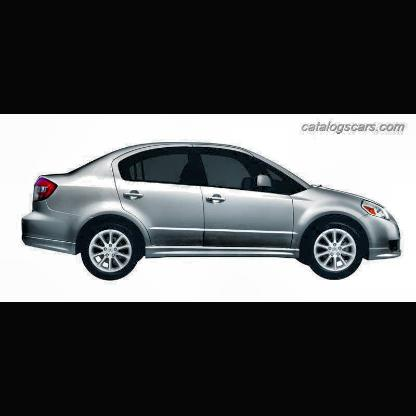Suzuki SX4 Sedan 2012: (20, 140, 402, 283)
